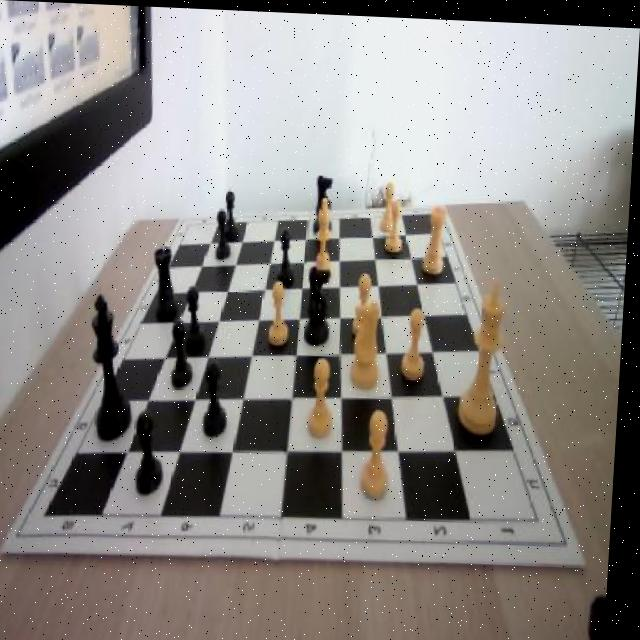black-bishop: (90, 295, 142, 441)
black-king: (305, 260, 338, 342), (315, 170, 339, 232)
black-knight: (139, 409, 172, 494), (205, 357, 234, 435), (174, 318, 201, 388), (187, 282, 212, 351), (278, 226, 299, 283), (218, 207, 236, 260), (225, 188, 242, 239)
black-queen: (155, 241, 184, 316)
black-rook: (312, 191, 342, 289)
white-bishop: (462, 269, 511, 430)
white-king: (350, 287, 393, 389)
white-knight: (364, 406, 400, 497), (308, 352, 343, 437), (402, 303, 433, 380), (355, 270, 382, 339), (270, 276, 294, 343), (387, 197, 407, 248), (381, 181, 401, 231)
white-queen: (426, 200, 452, 273)
